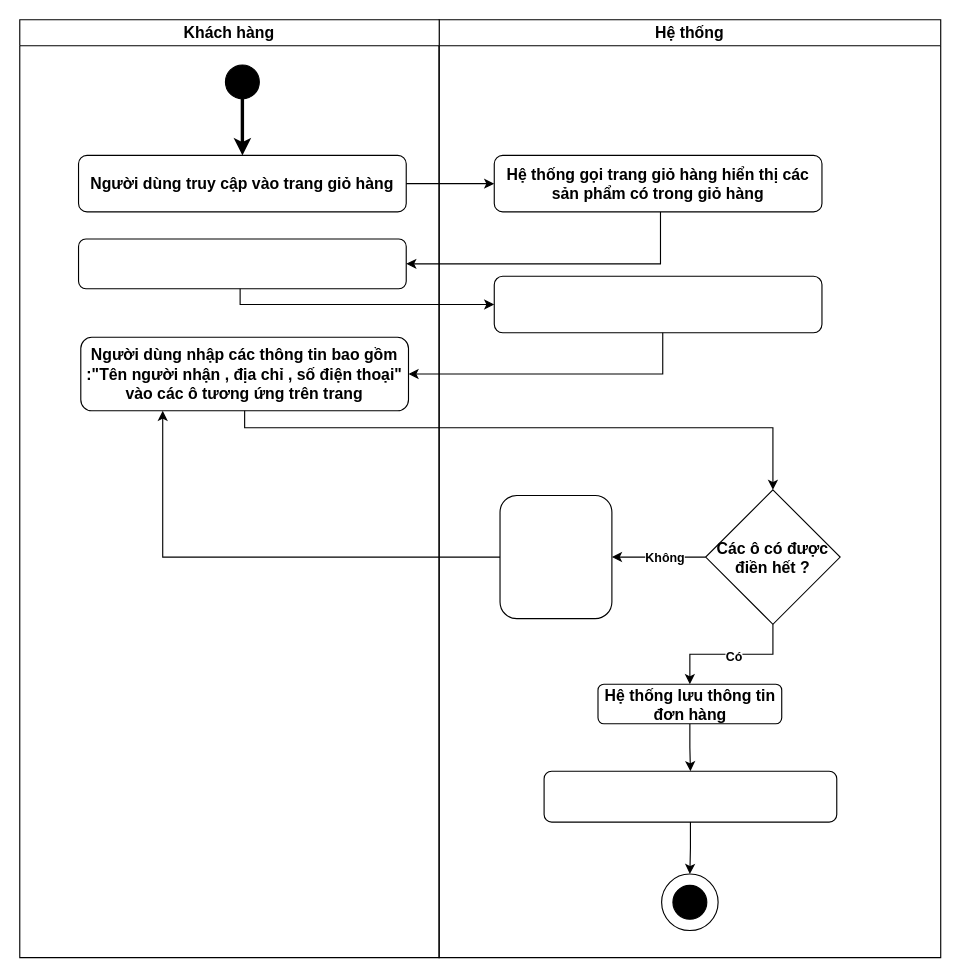
The diagram is 961 pixels wide and 977 high, and some of its shapes have lost their labels. Each missing label, with the centre of its shape:
hệ thống hiển thị thông báo "Vui lòng điền đầy đủ thông tin": point 555,556
Hệ thống điều hướng sang trang kiểm tra thông tin: point 657,304
Hệ thống điều hướng sang trang theo dõi giỏ hàng: point 690,796
Người dùng ấn vào nút kiểm tra thông tin: point 241,263
